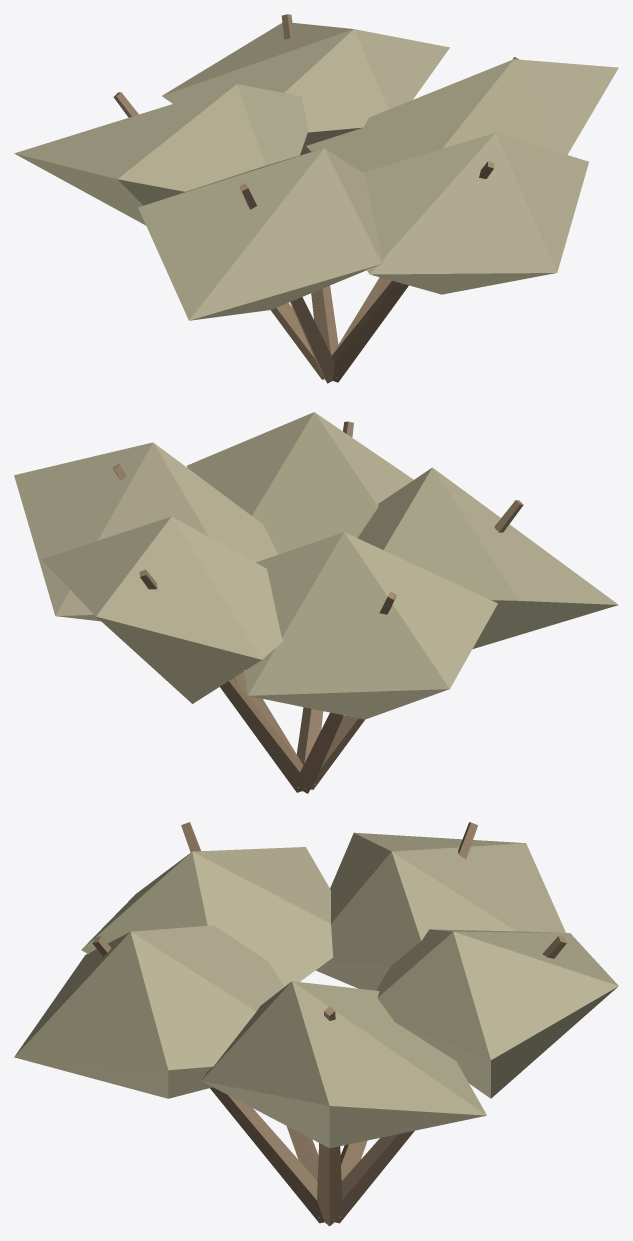
3 renders of one model, top to bottom at view 1: azimuth 30°, elevation 25°; view 2: azimuth 150°, elevation 25°; view 3: azimuth 270°, elevation 25°, orthographic. The views are drawn at different scales.
Bounding box in the file's own units: 1.81 × 0.9755 × 1.61.
